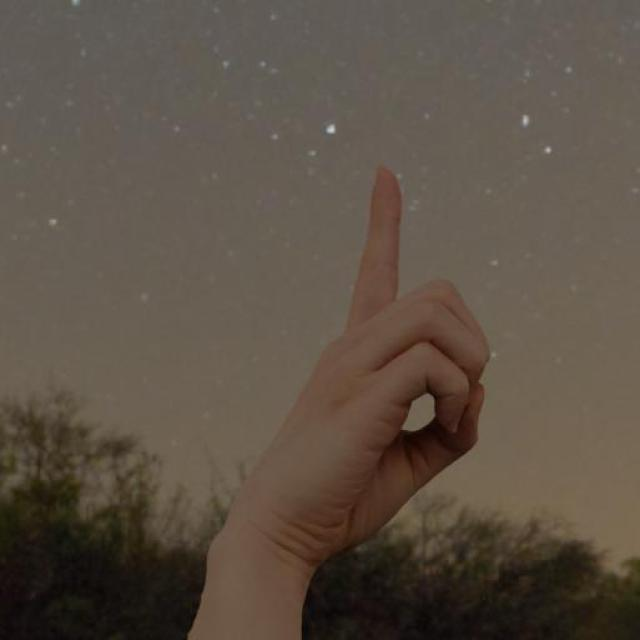D: (224, 164, 498, 564)
